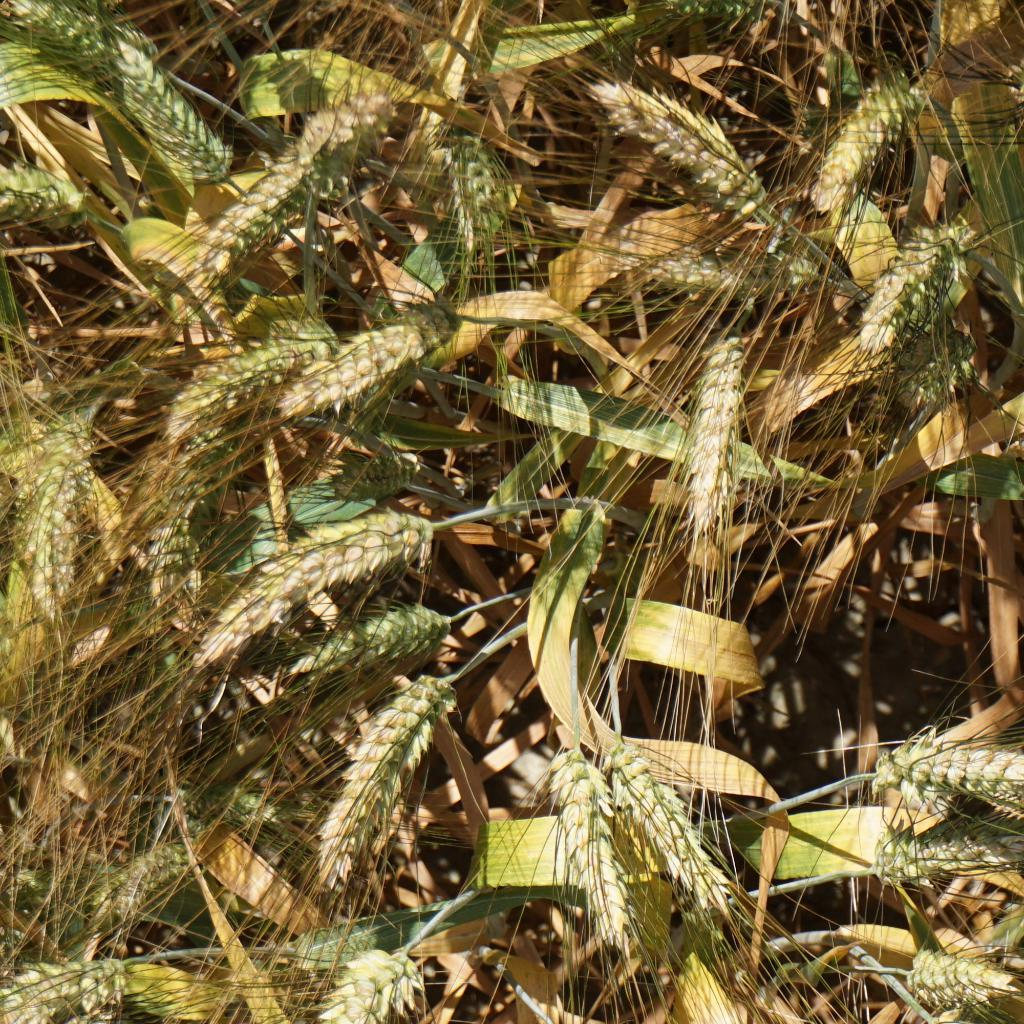0-0: (256, 292, 482, 423), (317, 673, 443, 873), (839, 214, 990, 368), (609, 740, 735, 911), (547, 751, 638, 952), (608, 85, 761, 204), (240, 509, 427, 598), (847, 730, 1024, 815), (164, 322, 317, 407), (794, 81, 913, 190), (439, 118, 527, 264), (854, 822, 1024, 888), (251, 949, 399, 1024), (202, 158, 310, 259), (683, 328, 740, 517), (36, 13, 163, 94), (123, 93, 238, 182), (644, 248, 818, 304), (41, 450, 102, 603), (301, 90, 395, 184), (294, 609, 451, 663), (0, 959, 122, 1024), (142, 453, 208, 572), (904, 333, 999, 415), (900, 940, 1015, 1004), (0, 860, 100, 913), (114, 837, 194, 901), (0, 175, 84, 229), (654, 0, 791, 33), (188, 781, 273, 833), (334, 442, 410, 493), (0, 470, 33, 539), (1000, 40, 1024, 132), (923, 1009, 1024, 1024), (49, 1013, 104, 1024)
